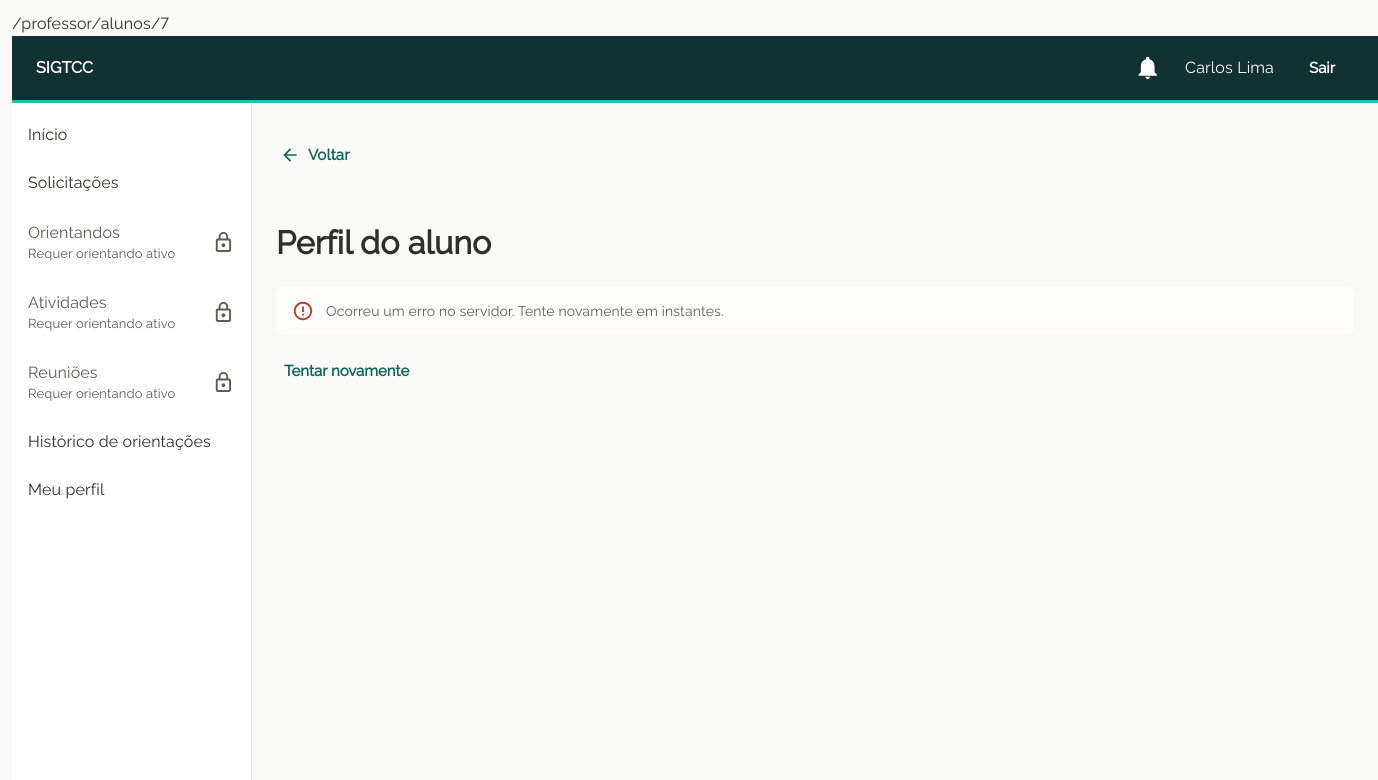
StudentProfileViewPage: aluno não encontrado e erros › em outros erros, mostra o alerta e tenta de novo
Check: the heading "Perfil do aluno" is shown, box [276,224,491,261]
Step 1. Click the button "Tentar novamente" → {"x": 347, "y": 371}, box [276,351,417,391]
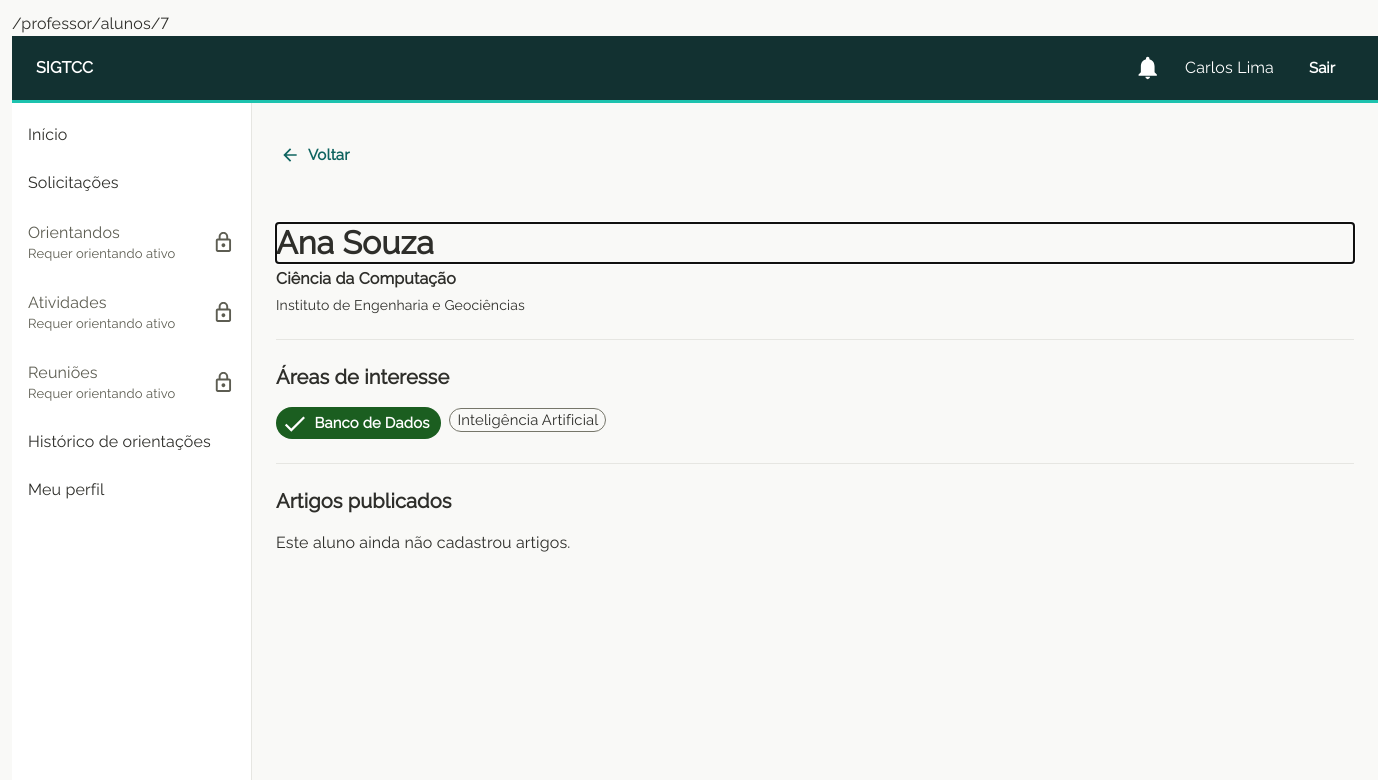
Check: the heading "Ana Souza" is shown, box [276,224,434,261]
Check: the heading "Perfil do aluno" is gone
